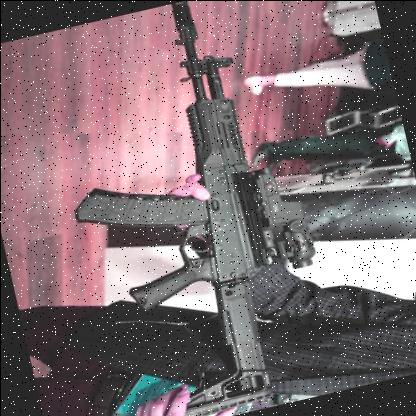rifle: (11, 0, 329, 416)
